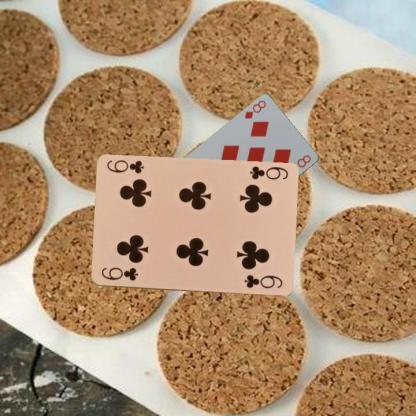6c: (98, 264, 139, 283), (247, 164, 289, 182)
8d: (242, 98, 268, 120)
